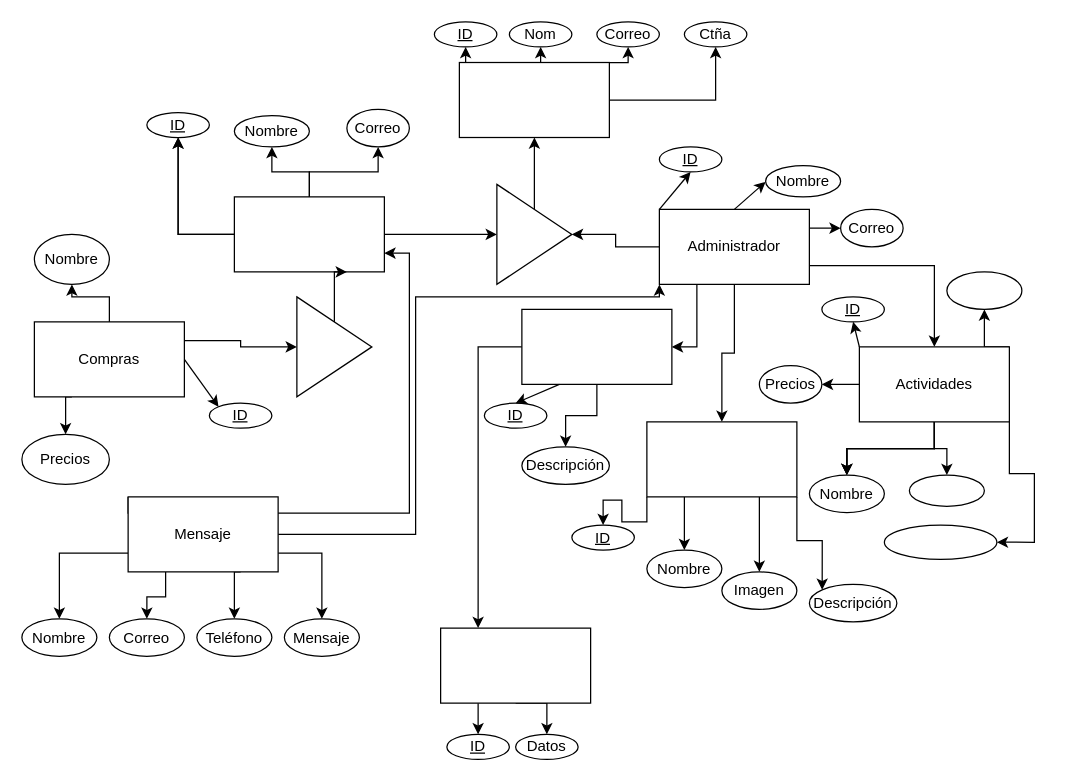
Some shapes in this 1066 by 781 pixel diagram are drawn without their labels. Here are the shapes that lost their labels. From the top down, the centre of each, then its label:
point (533, 99): Usuario
point (308, 234): Cliente
point (534, 233): Ingresa
point (984, 290): Horas
point (334, 346): Tiene
point (596, 346): Avisos
point (721, 459): Ofertas
point (946, 490): Dias
point (940, 541): Desc_Precios
point (515, 665): Notificaciones
